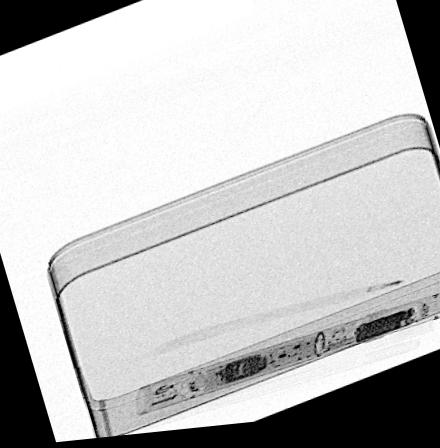Baton: (132, 301, 440, 416)
